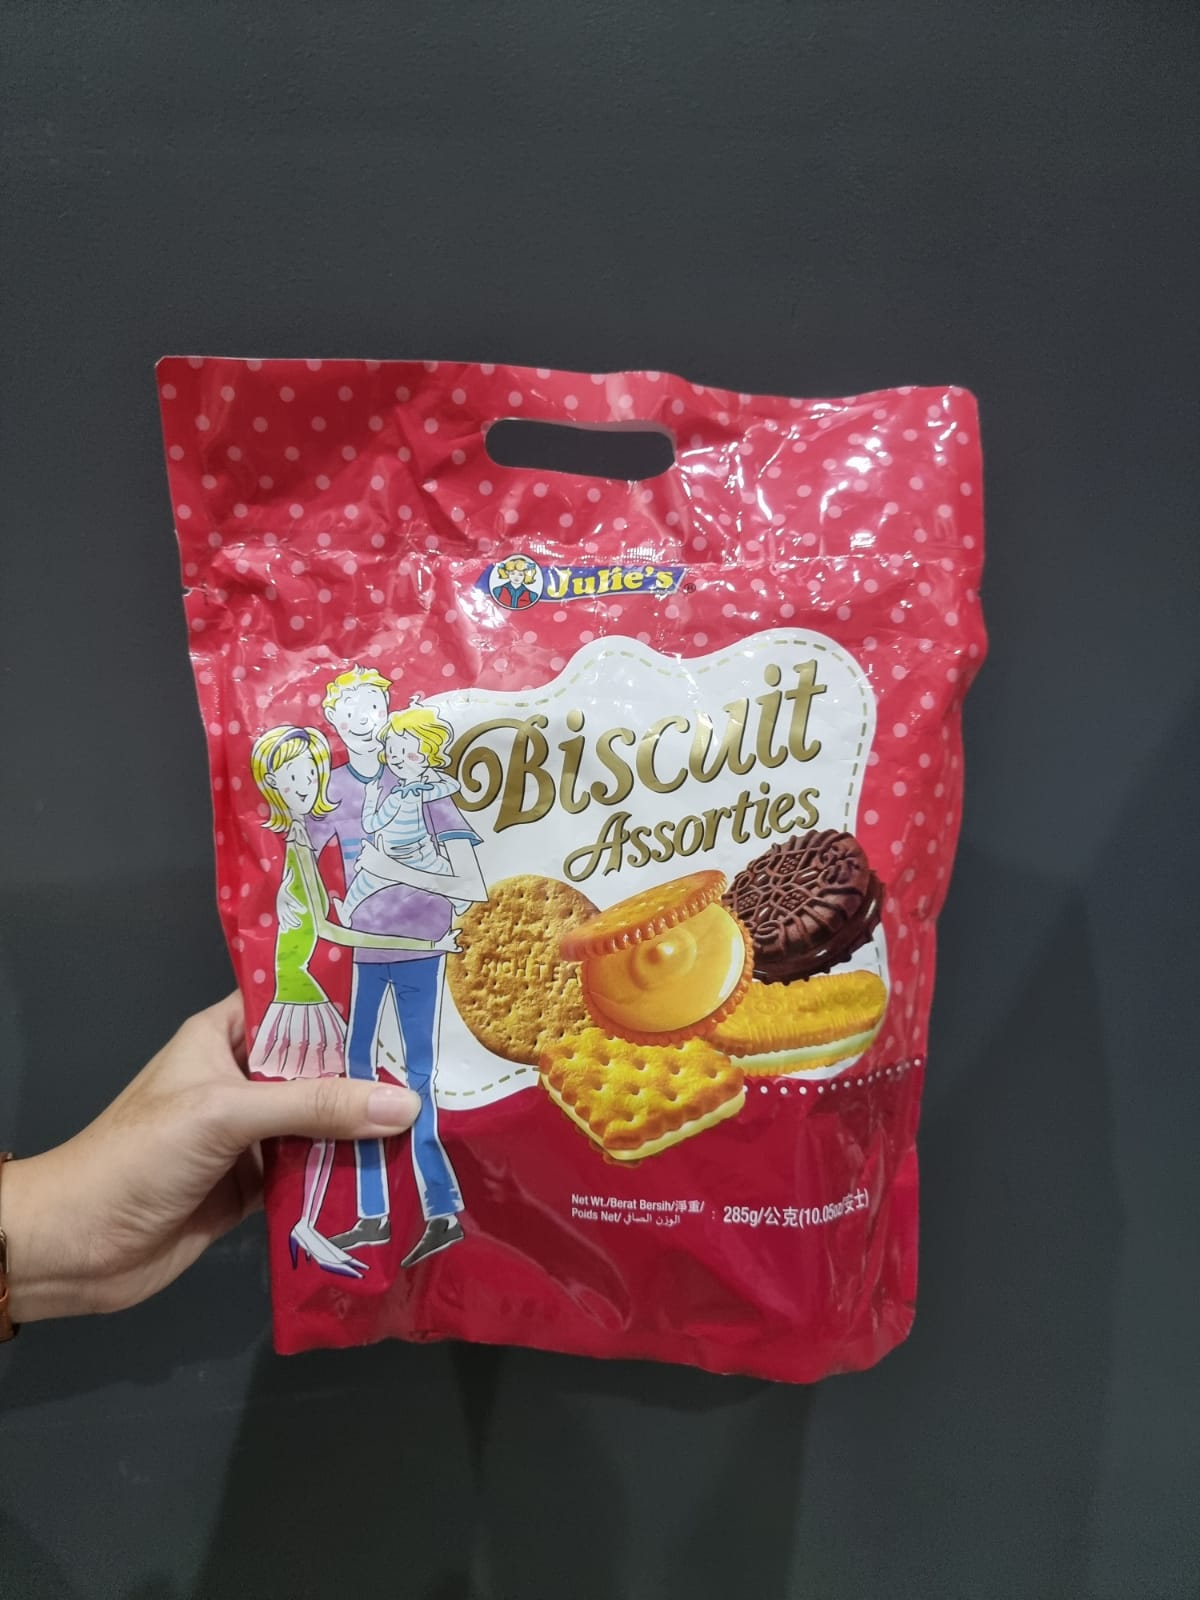Biscuits: (266, 511, 892, 1298)
